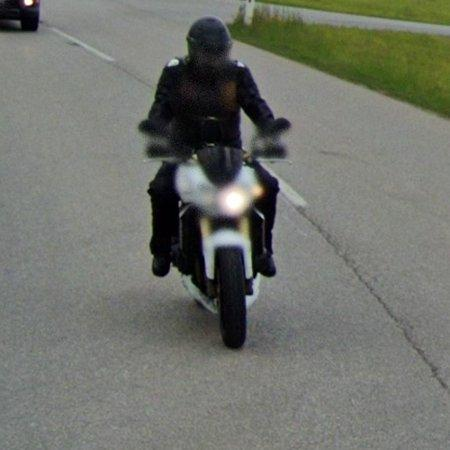motorcycles: (173, 144, 265, 348)
